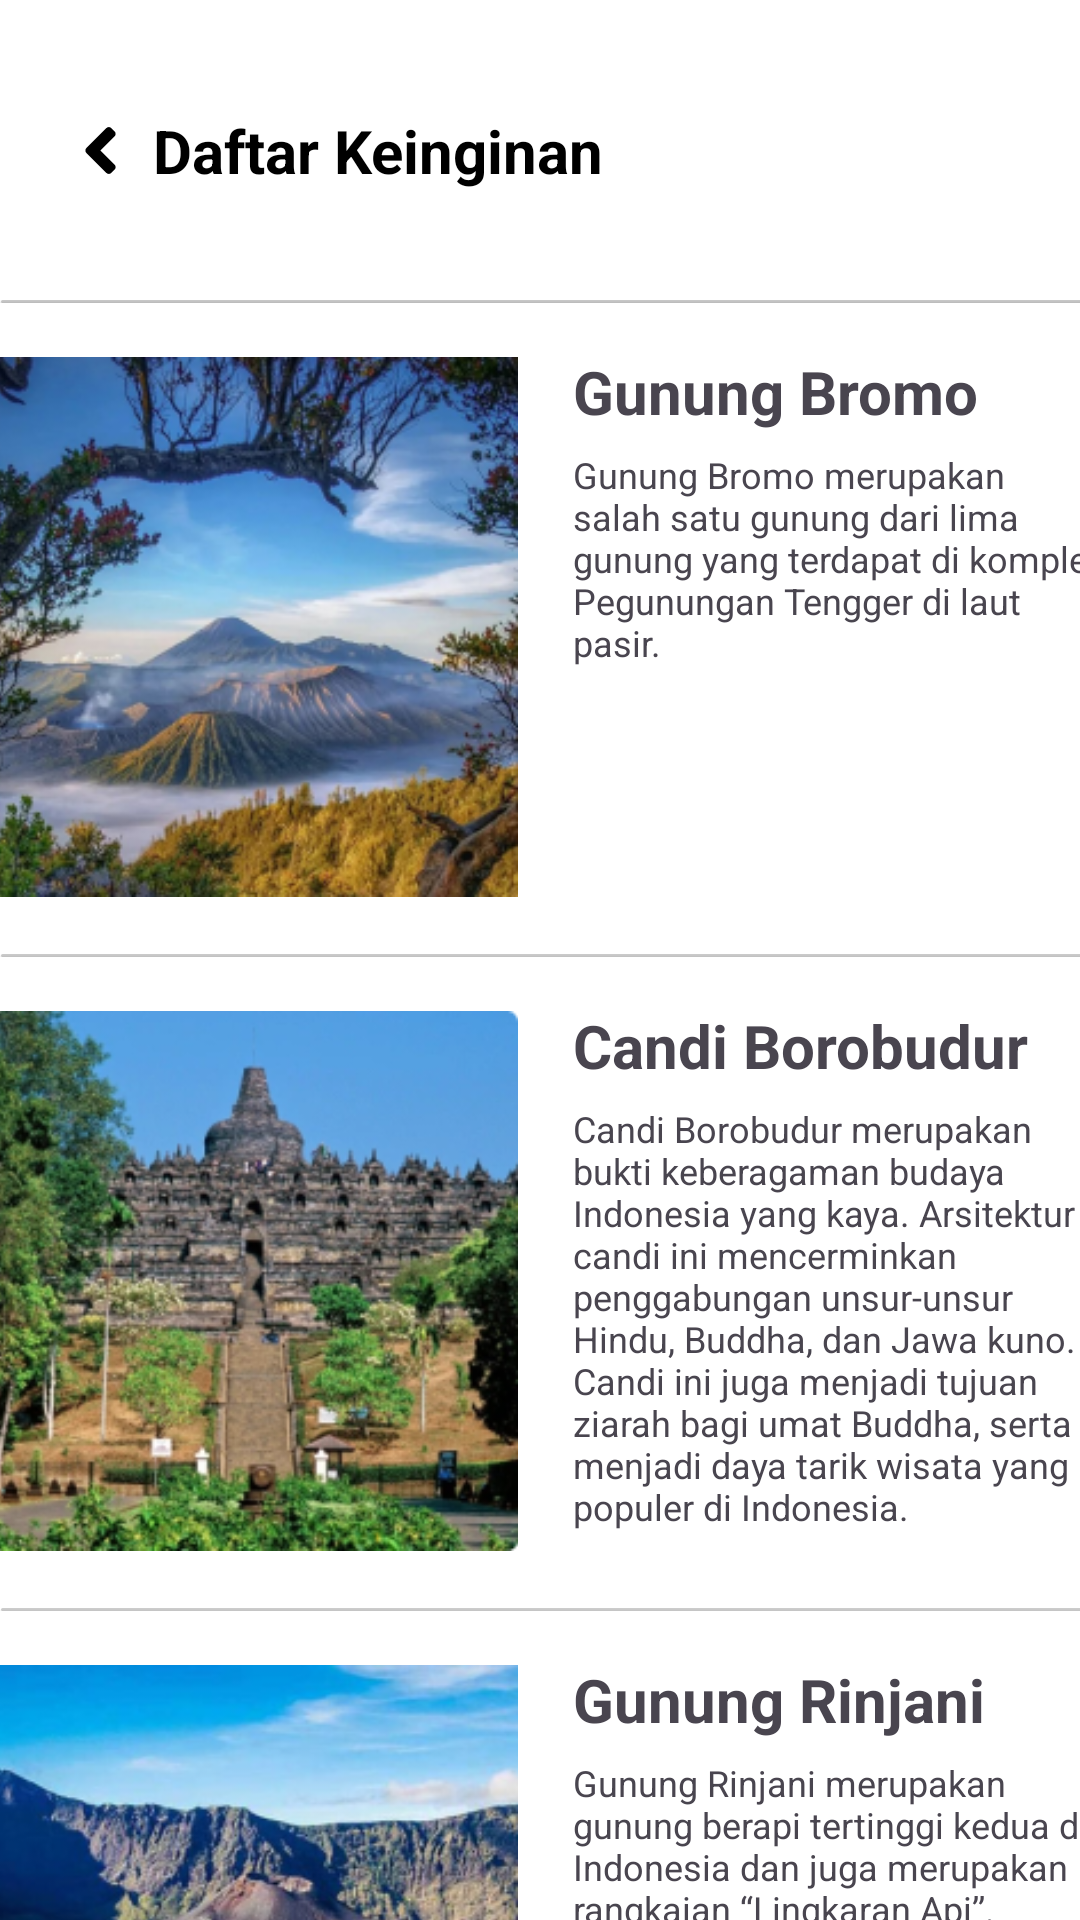

Icons on this 1080px x 1920px Android screen, each with the point to tap as [x,y]:
panahkiri: [100,150]
